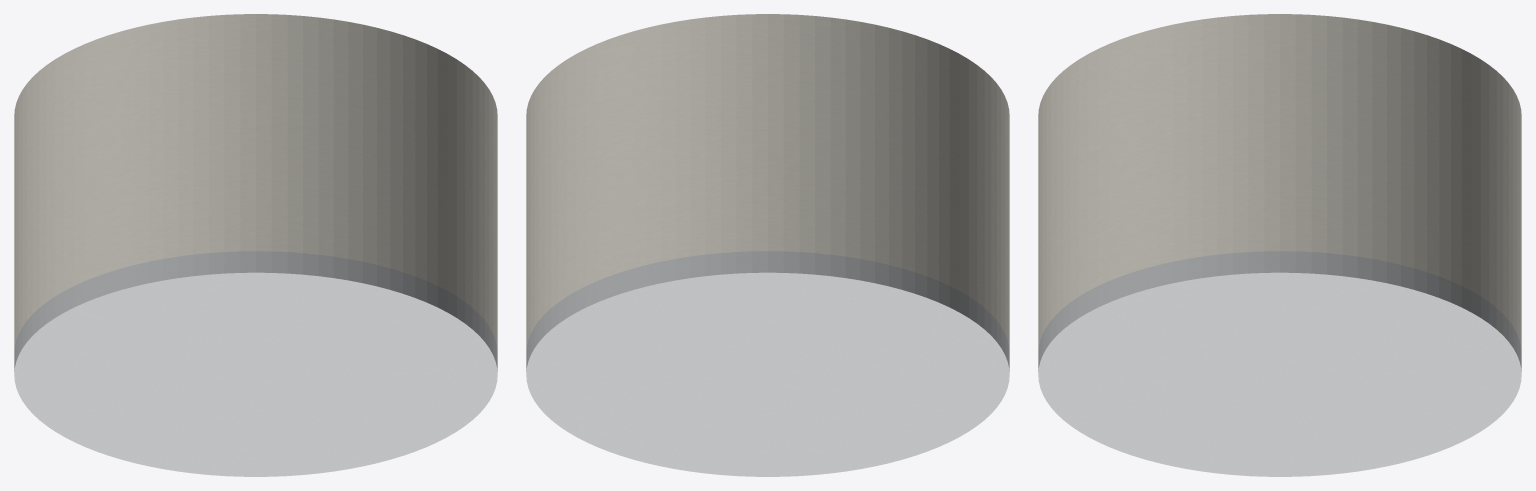
File: cake_4in_layers2_v20.glb
3 views of the same model, side by side, from view 1: azimuth 30°, elevation 25°; view 2: azimuth 150°, elevation 25°; view 3: azimuth 270°, elevation 25° (orthographic).
Parts seen in each view (by area): view 1: CakeFondant, CakeBoard; view 2: CakeFondant, CakeBoard; view 3: CakeFondant, CakeBoard.
Part boxes in pixels (x1,y1,x2,y2): CakeFondant: [14, 14, 497, 350]; CakeBoard: [14, 251, 497, 476]; CakeFondant: [526, 14, 1009, 350]; CakeBoard: [526, 251, 1009, 476]; CakeFondant: [1038, 14, 1521, 350]; CakeBoard: [1038, 251, 1521, 476].
Bounding box in the file's own units: 0.1016 × 0.06 × 0.1016.
Materials: 2 (2 with a texture image).
